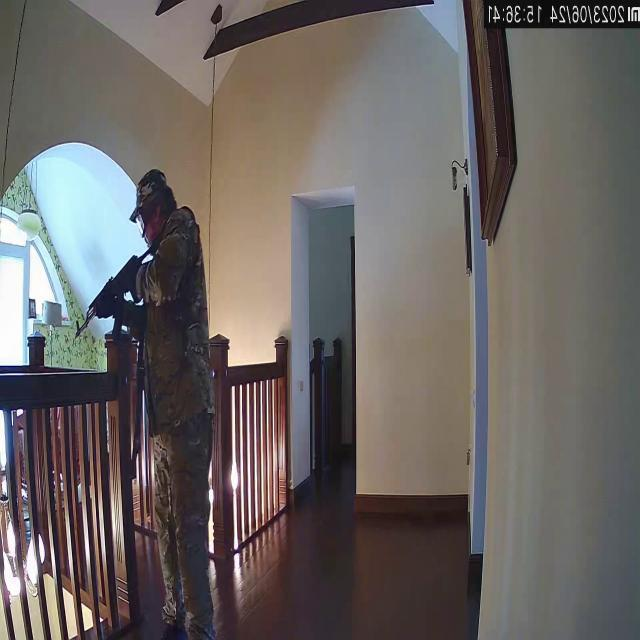pistol: (73, 238, 157, 340)
